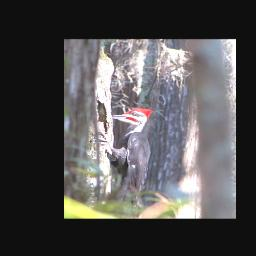Woodpecker: (90, 108, 155, 213)
